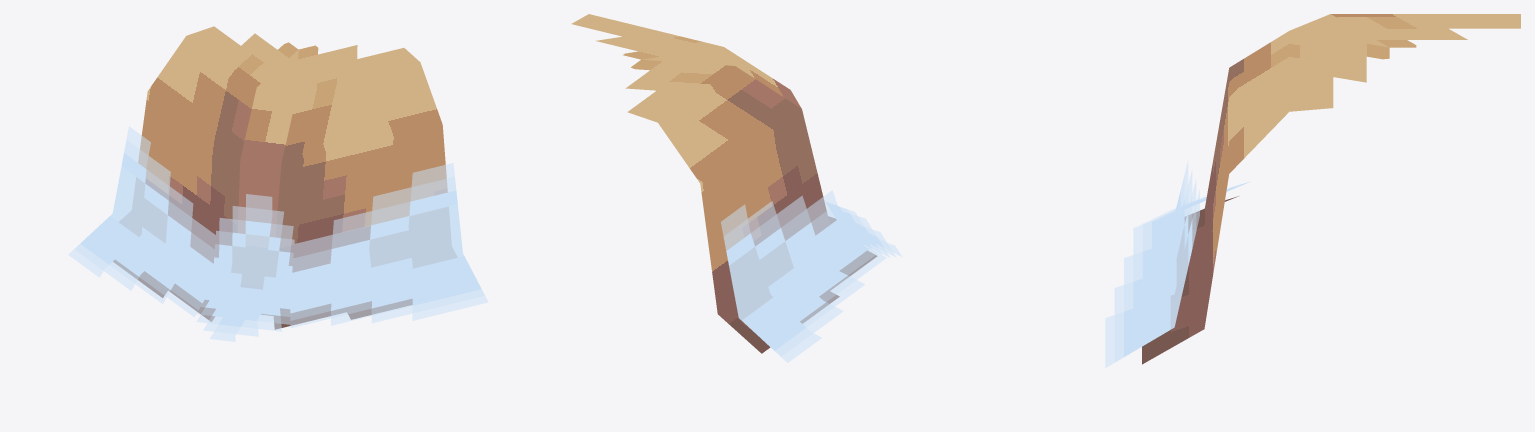
3 renders of one model, left to right at view 1: azimuth 30°, elevation 25°; view 2: azimuth 150°, elevation 25°; view 3: azimuth 270°, elevation 25°, orthographic. The views are drawn at different scales.
Bounding box in the file's own units: 1.05 × 0.7266 × 1.05.
2 materials, 2 textured.
